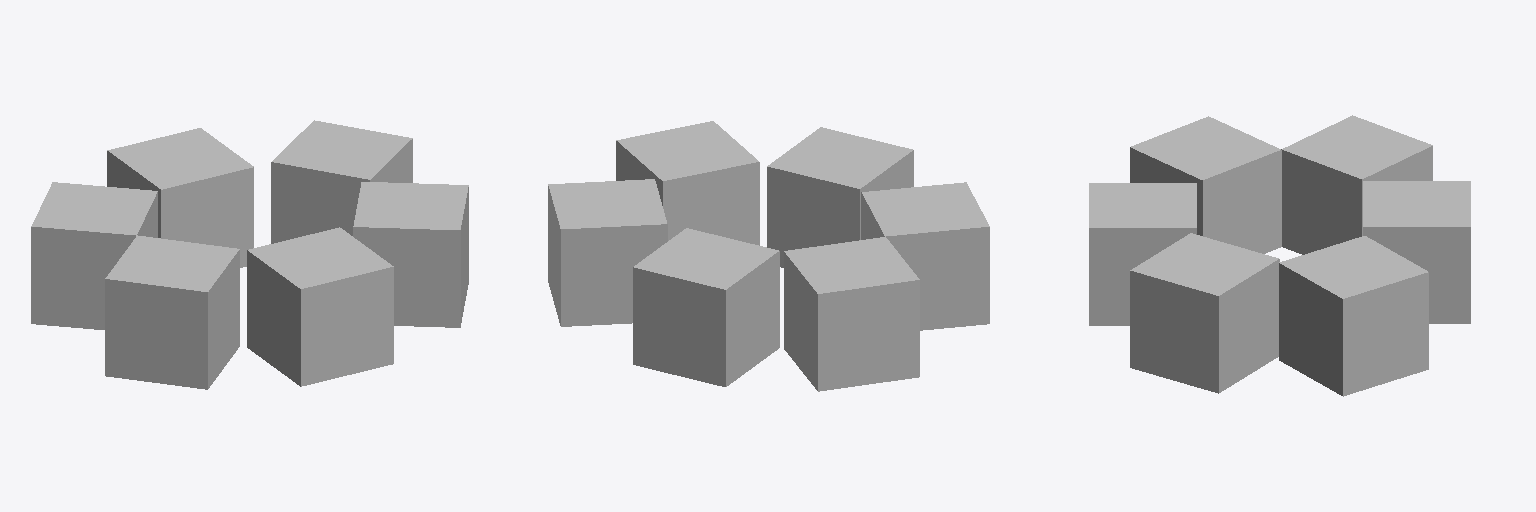
Rendered from CubeCircle.obj.
The picture shows the model from 3 angles: view 1: azimuth 30°, elevation 25°; view 2: azimuth 150°, elevation 25°; view 3: azimuth 270°, elevation 25°; orthographic projection.
Parts seen in each view (by area): view 1: Cube.005_Cube.006, Cube.003_Cube.004, Cube.002_Cube.003, Cube.004_Cube.005, Cube_Cube.001, Cube.001_Cube.002; view 2: Cube_Cube.001, Cube.002_Cube.003, Cube.001_Cube.002, Cube.003_Cube.004, Cube.005_Cube.006, Cube.004_Cube.005; view 3: Cube.001_Cube.002, Cube.004_Cube.005, Cube.003_Cube.004, Cube.002_Cube.003, Cube_Cube.001, Cube.005_Cube.006.
Part boxes in pixels (x1,y1,x2,y2): Cube.005_Cube.006: (247,227,393,386); Cube.003_Cube.004: (105,235,239,389); Cube.002_Cube.003: (31,182,157,329); Cube.004_Cube.005: (353,182,468,327); Cube_Cube.001: (107,128,253,267); Cube.001_Cube.002: (271,120,412,243); Cube_Cube.001: (633,228,779,386); Cube.002_Cube.003: (784,237,919,391); Cube.001_Cube.002: (548,179,667,326); Cube.003_Cube.004: (861,182,989,330); Cube.005_Cube.006: (767,127,913,267); Cube.004_Cube.005: (616,121,759,245); Cube.001_Cube.002: (1279,236,1428,396); Cube.004_Cube.005: (1130,233,1279,393); Cube.003_Cube.004: (1130,116,1281,253); Cube.002_Cube.003: (1281,115,1432,254); Cube_Cube.001: (1363,181,1470,323); Cube.005_Cube.006: (1089,183,1196,325).
Size of the model in its own units: 8.08 by 2 by 7.09.